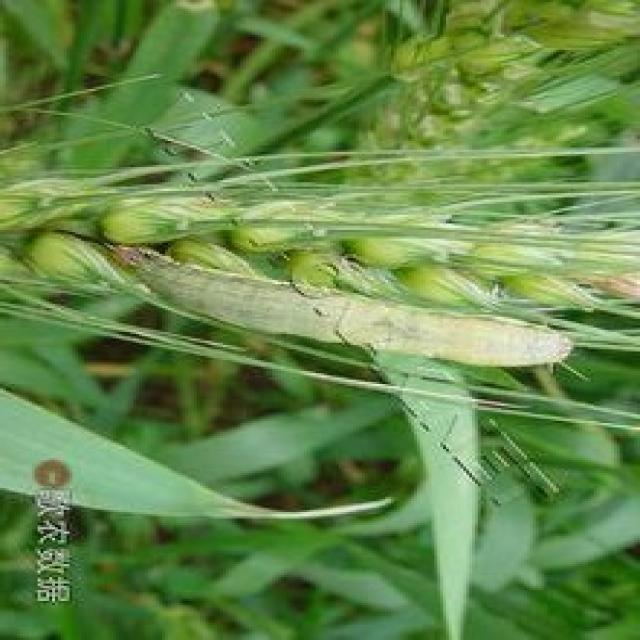army worm: (92, 242, 582, 368)
